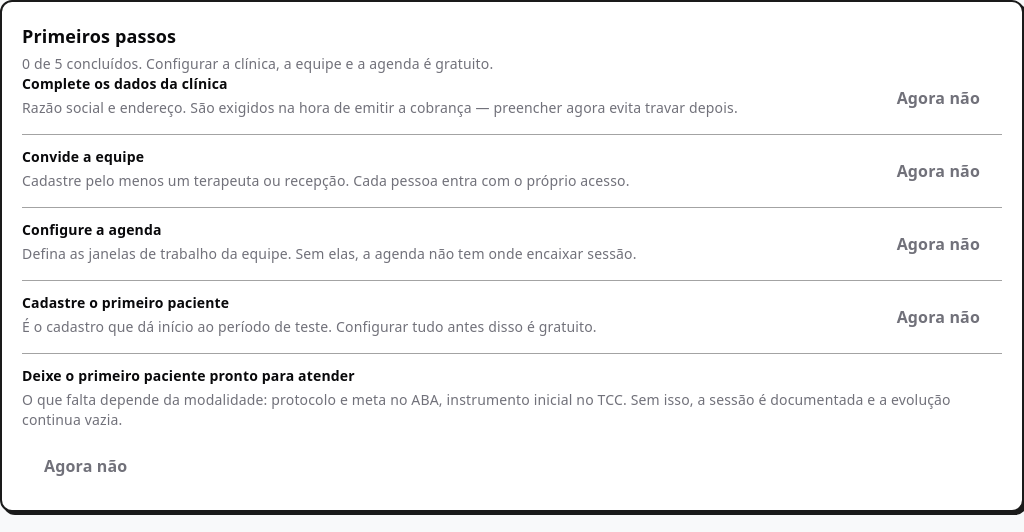
Test case: ChecklistOnboarding › 'agora não' remove o item e persiste no localStorage
Click the button "Agora não" in the row of "Complete os dados da clínica".
click(938, 98)  # box [875,74,1002,122]
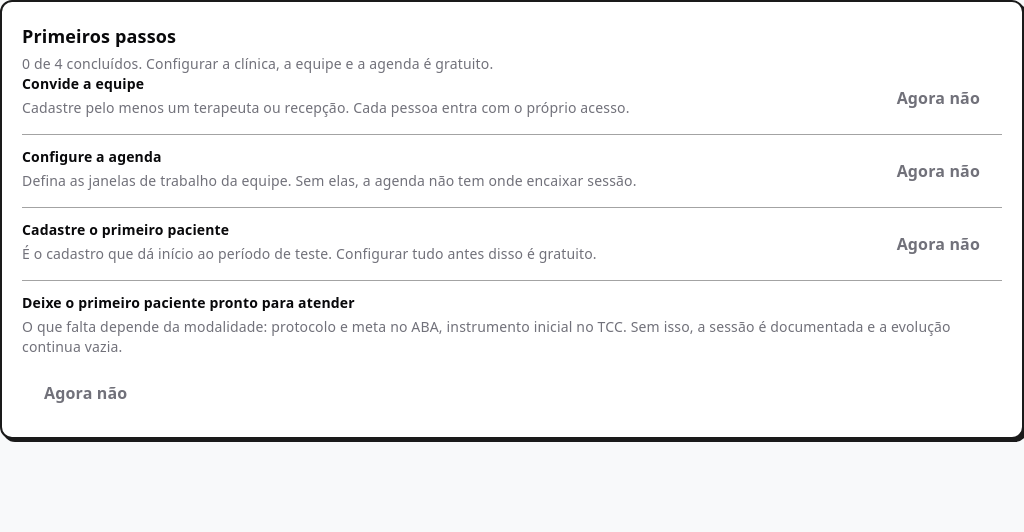
Check: the number of list items is 4, box [22,74,1002,135]; [22,147,1002,208]; [22,220,1002,281]; [22,293,1002,417]
